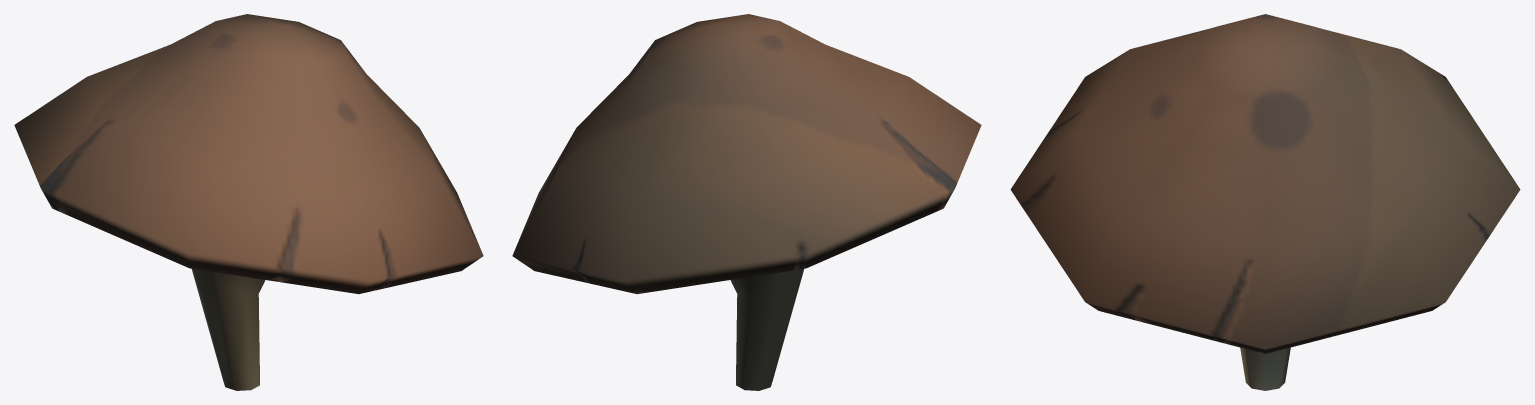
Rendered from mashroom2.fbx.
The picture shows the model from 3 angles, left to right: view 1: azimuth 30°, elevation 25°; view 2: azimuth 150°, elevation 25°; view 3: azimuth 270°, elevation 25°; orthographic projection. The views are drawn at different scales.
Parts seen in each view (by area): view 1: mashroom2; view 2: mashroom2; view 3: mashroom2.
Part boxes in pixels (left/top/right/bottom): mashroom2: left=14, top=14, right=483, bottom=390; mashroom2: left=512, top=14, right=981, bottom=390; mashroom2: left=1010, top=14, right=1520, bottom=390.
Size of the model in its own units: 3.09 by 2.48 by 3.18.
